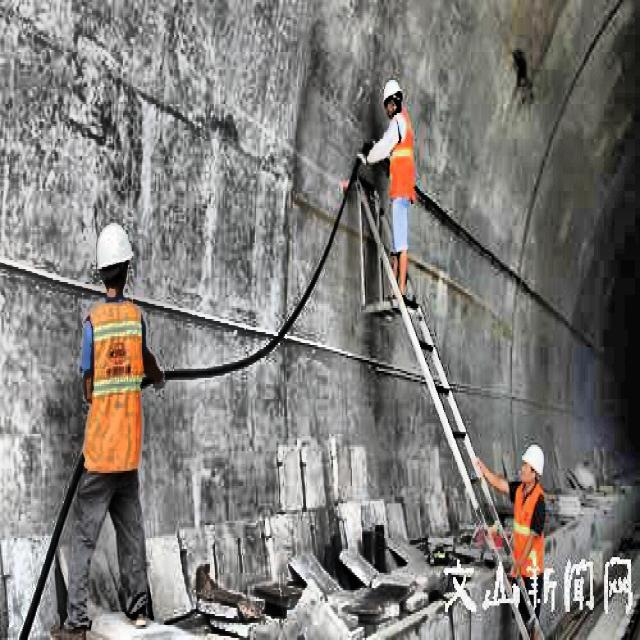helmet: (92, 219, 136, 302), (521, 438, 545, 488), (379, 76, 403, 121)
